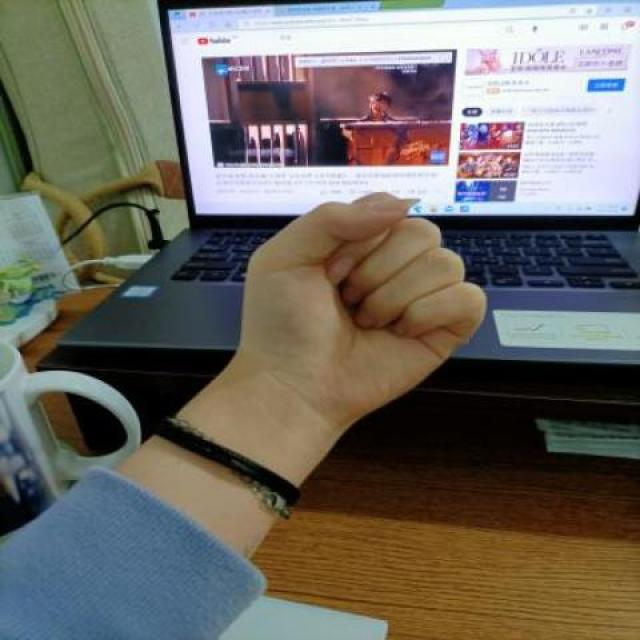Closed Hand: (223, 188, 492, 425)
